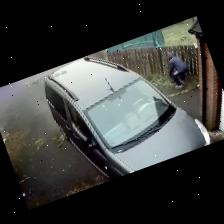person: (167, 53, 188, 89)
